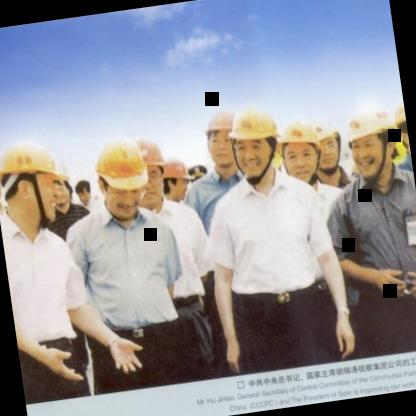helmet: (0, 127, 72, 237), (85, 128, 152, 220), (340, 101, 404, 187), (224, 98, 284, 180), (275, 112, 328, 187), (195, 101, 245, 179), (309, 112, 347, 178), (138, 142, 168, 203), (159, 158, 195, 208), (394, 95, 413, 169)
